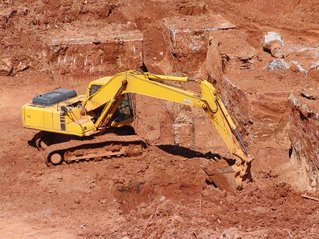excavator: (20, 67, 256, 193)
